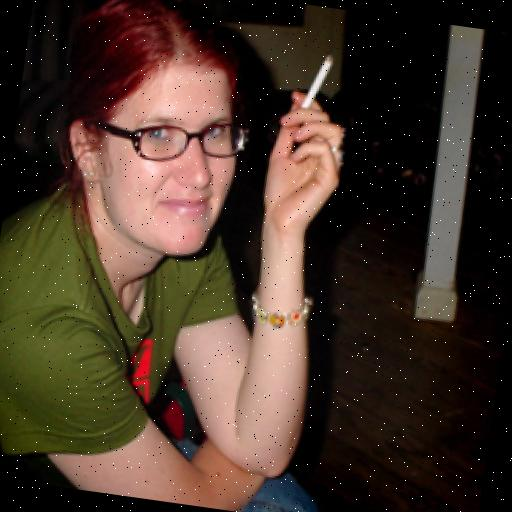pegang rokok: (243, 20, 380, 212)
